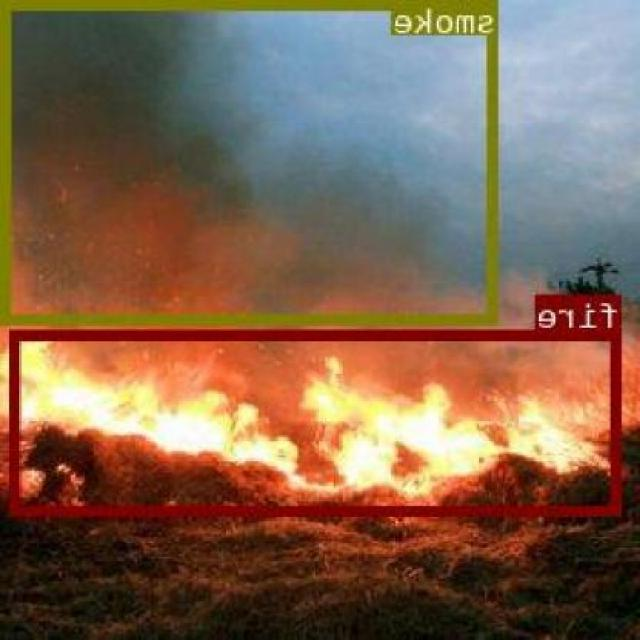Fire: (8, 310, 640, 507)
Smoke: (18, 0, 450, 377)
